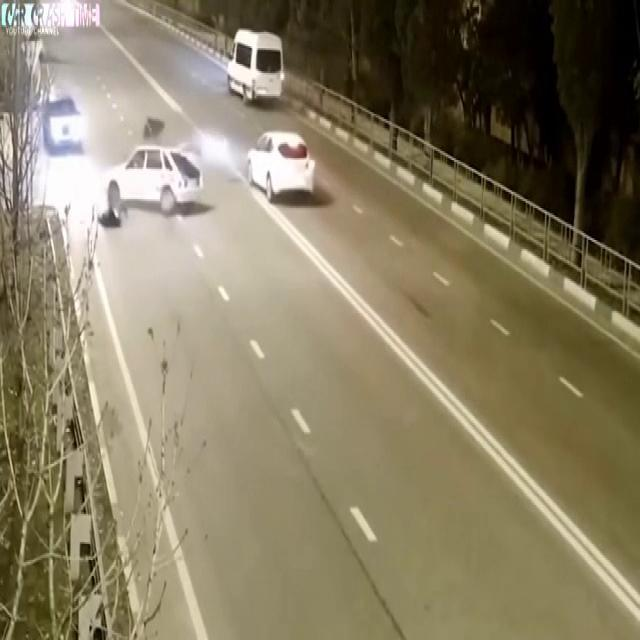accident: (84, 123, 214, 226)
